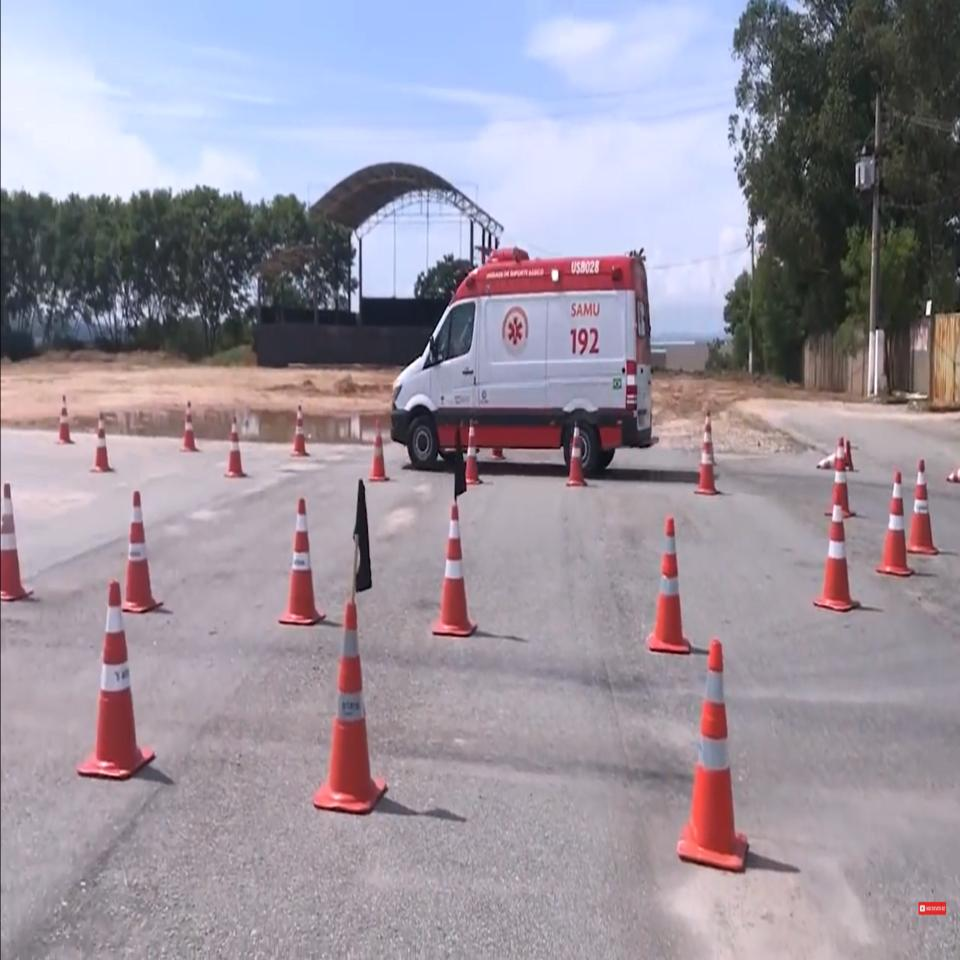bombeiro: (391, 246, 660, 470)
